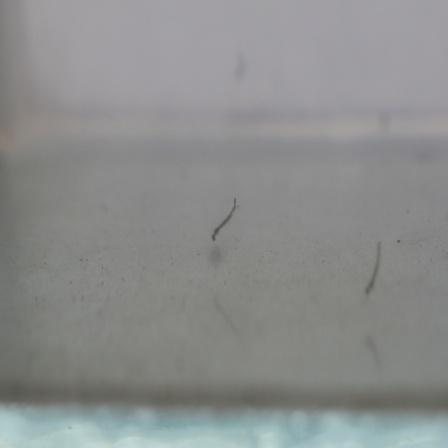Jentik-Nyamuk: (206, 192, 240, 244), (363, 235, 387, 298)
